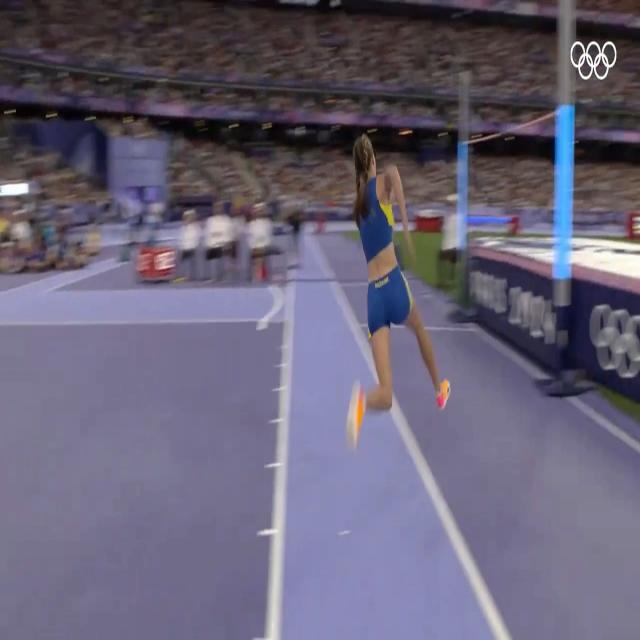run: (343, 135, 454, 449)
